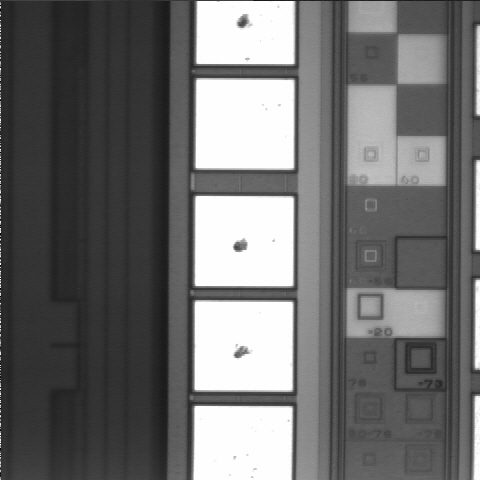pad: (196, 79, 294, 170), (195, 196, 294, 286), (195, 301, 293, 391)
